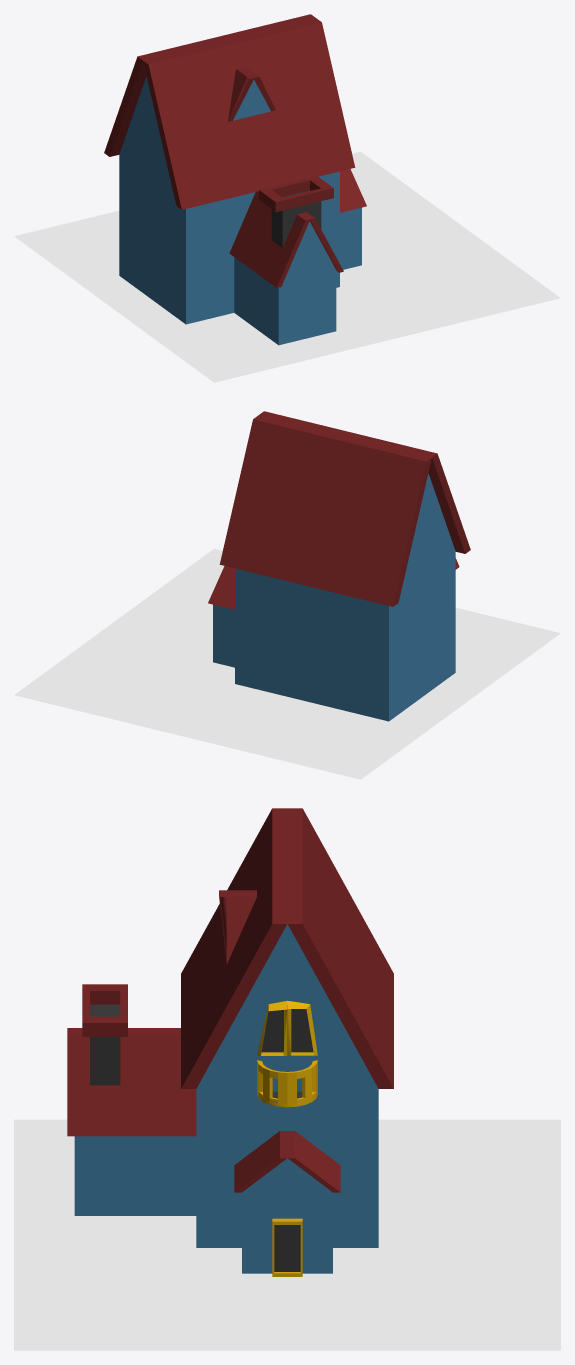
The model's file is House2.fbx.
3 renders of one model, top to bottom at view 1: azimuth 30°, elevation 25°; view 2: azimuth 150°, elevation 25°; view 3: azimuth 270°, elevation 25°, orthographic. The views are drawn at different scales.
Parts seen in each view (by area): view 1: Plane, polySurface2, polySurface1, polySurface5, polySurface6, Chimney, polySurface8, polySurface3, polySurface7, polySurface4; view 2: Plane, polySurface2, polySurface1, polySurface8, polySurface7; view 3: Plane, polySurface1, polySurface2, polySurface6, polySurface5, polySurface8, Chimney, polySurface7, polySurface3, Window__26_, Window__27_, polySurface10 (+1 smaller).
Boxes of the visible parts, <box> form: Plane: <box>14,151,560,382</box>; polySurface2: <box>104,14,355,209</box>; polySurface1: <box>119,76,339,324</box>; polySurface5: <box>234,221,336,345</box>; polySurface6: <box>229,191,343,287</box>; Chimney: <box>259,176,333,247</box>; polySurface8: <box>340,207,361,269</box>; polySurface3: <box>228,66,275,121</box>; polySurface7: <box>340,169,366,212</box>; polySurface4: <box>233,80,270,120</box>; Plane: <box>14,548,560,779</box>; polySurface2: <box>219,411,470,606</box>; polySurface1: <box>235,473,455,721</box>; polySurface8: <box>208,566,234,667</box>; polySurface7: <box>210,566,234,609</box>; Plane: <box>14,1119,560,1350</box>; polySurface1: <box>196,924,378,1247</box>; polySurface2: <box>181,808,393,1088</box>; polySurface6: <box>67,1028,196,1136</box>; polySurface5: <box>74,1136,196,1215</box>; polySurface8: <box>242,1157,340,1273</box>; Chimney: <box>82,984,127,1085</box>; polySurface7: <box>234,1131,340,1192</box>; polySurface3: <box>219,890,256,964</box>; Window__26_: <box>287,1000,317,1055</box>; Window__27_: <box>257,1001,287,1055</box>; polySurface10: <box>274,1225,300,1271</box>.
Size of the model in its own units: 1800 by 1200 by 1800.
